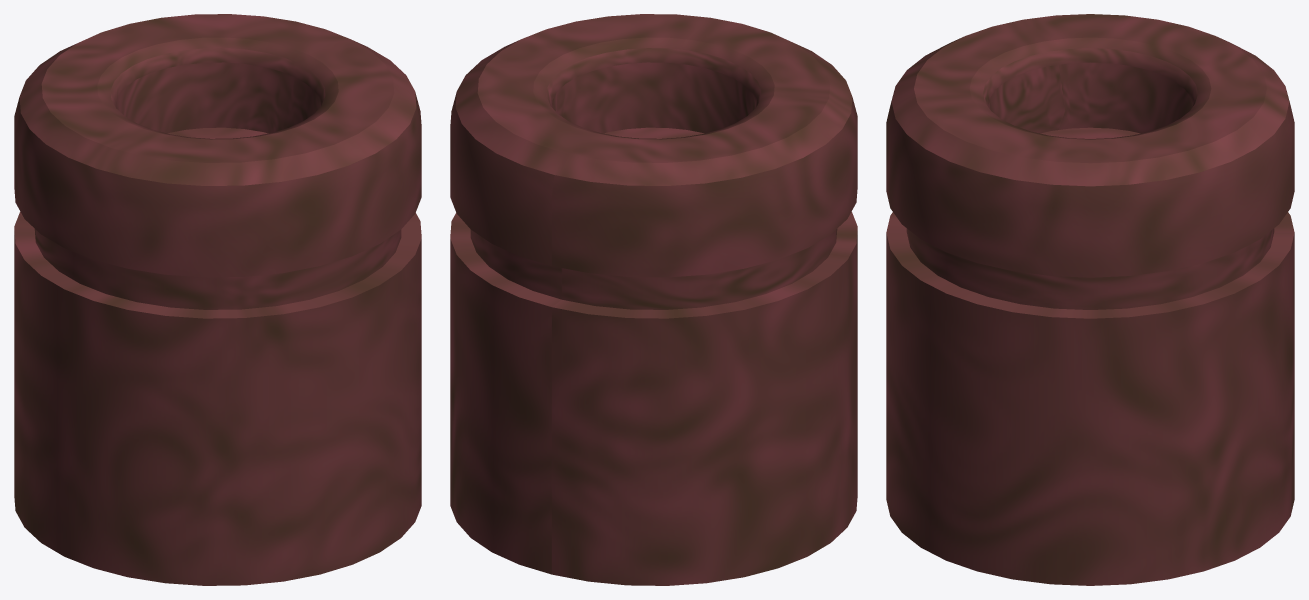
Rendered from piece_1110.obj.
3 views of the same model, side by side, from view 1: azimuth 30°, elevation 25°; view 2: azimuth 150°, elevation 25°; view 3: azimuth 270°, elevation 25° (orthographic).
Visible parts, largest first — view 1: bsch_Cylinder.014; view 2: bsch_Cylinder.014; view 3: bsch_Cylinder.014.
Boxes of the visible parts, bbox=[...] form: bsch_Cylinder.014: bbox=[14, 14, 421, 585]; bsch_Cylinder.014: bbox=[450, 14, 857, 585]; bsch_Cylinder.014: bbox=[886, 14, 1294, 585].
Size of the model in its own units: 0.18 by 0.2 by 0.18.
Materials: 1 (1 with a texture image).
